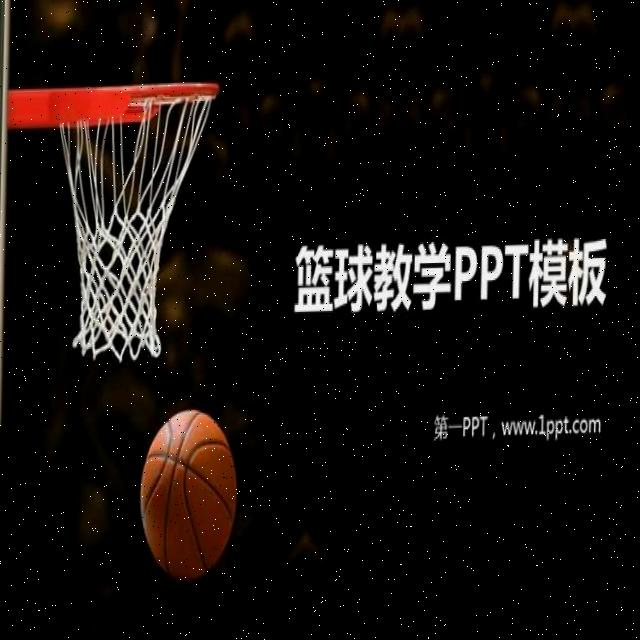Basketball: (140, 408, 239, 581)
